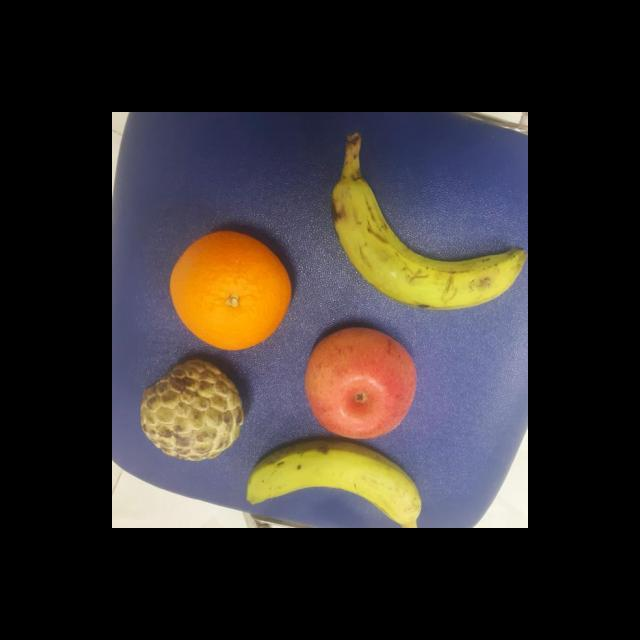Sakya fruit: (142, 360, 244, 463)
apple: (306, 328, 418, 440)
banana: (330, 132, 528, 312), (242, 440, 430, 528)
orange: (171, 230, 293, 350)
